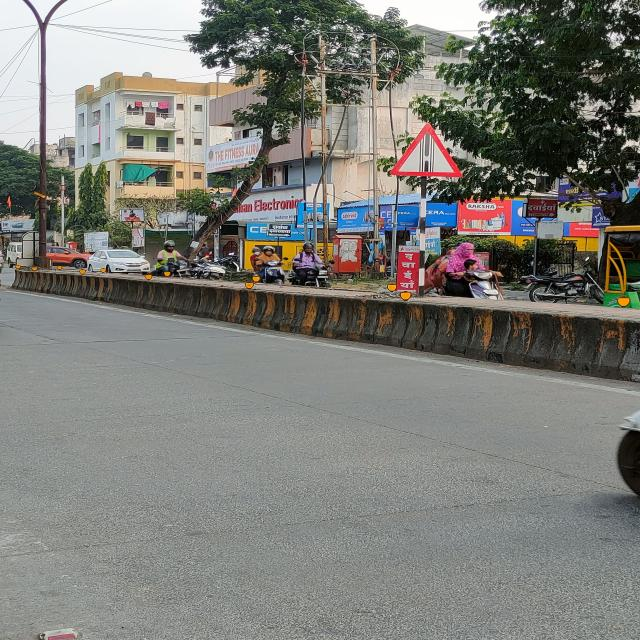ferry: (391, 122, 464, 176)
